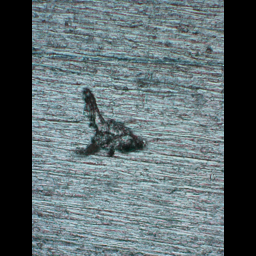d: (69, 85, 148, 161)
